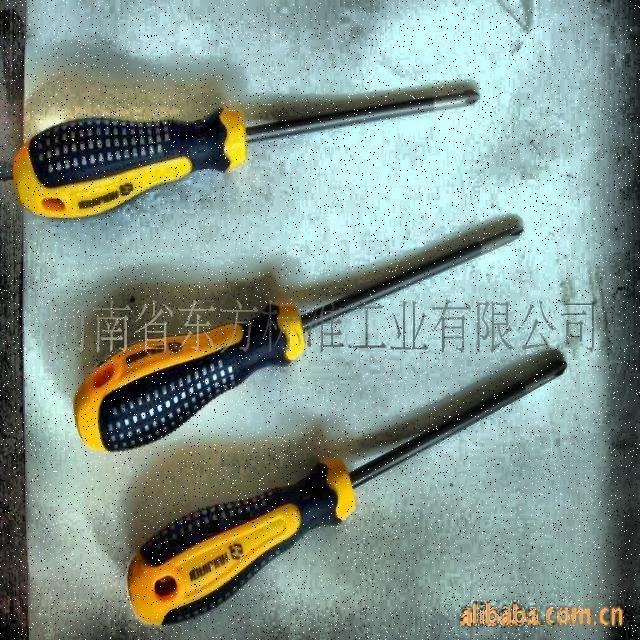screwdriver: (125, 358, 568, 630), (73, 222, 525, 454), (12, 90, 480, 220)
